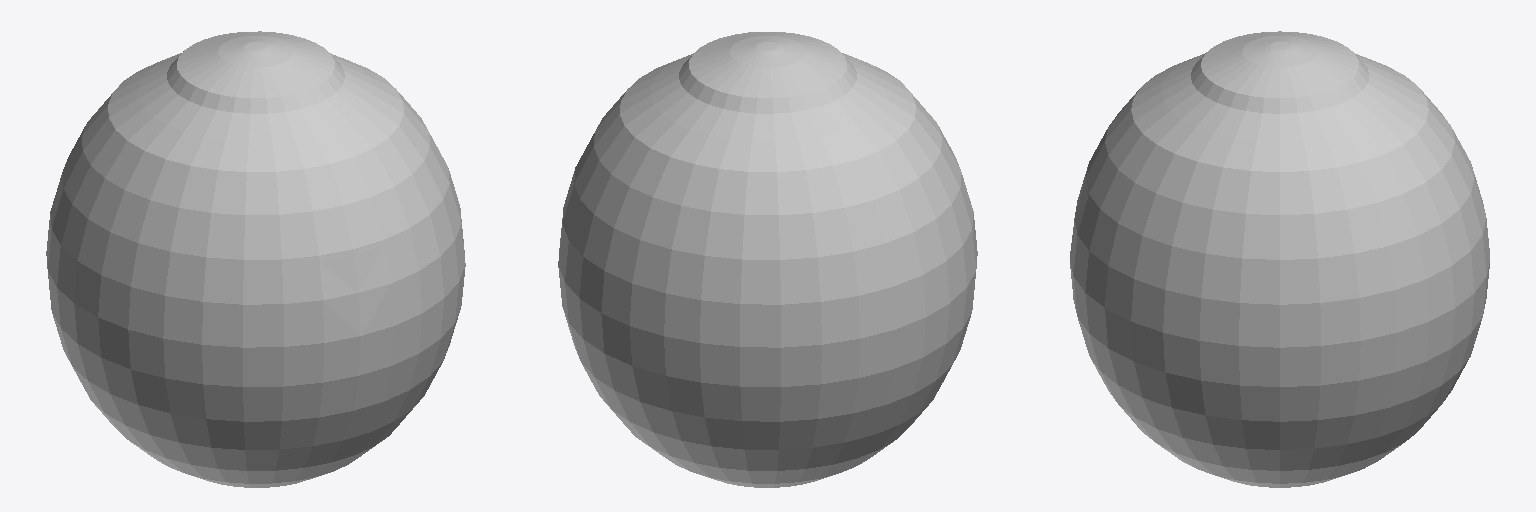
Rendered from CorneaScleraIris.obj.
The picture shows the model from 3 angles: view 1: azimuth 30°, elevation 25°; view 2: azimuth 150°, elevation 25°; view 3: azimuth 270°, elevation 25°; orthographic projection.
Parts seen in each view (by area): view 1: BakedCornea; view 2: BakedCornea; view 3: BakedCornea.
Part boxes in pixels (bbox=[...]): BakedCornea: bbox=[46, 31, 465, 487]; BakedCornea: bbox=[558, 32, 977, 487]; BakedCornea: bbox=[1070, 31, 1489, 487].
Bounding box in the file's own units: 2.39 × 2.64 × 2.39.